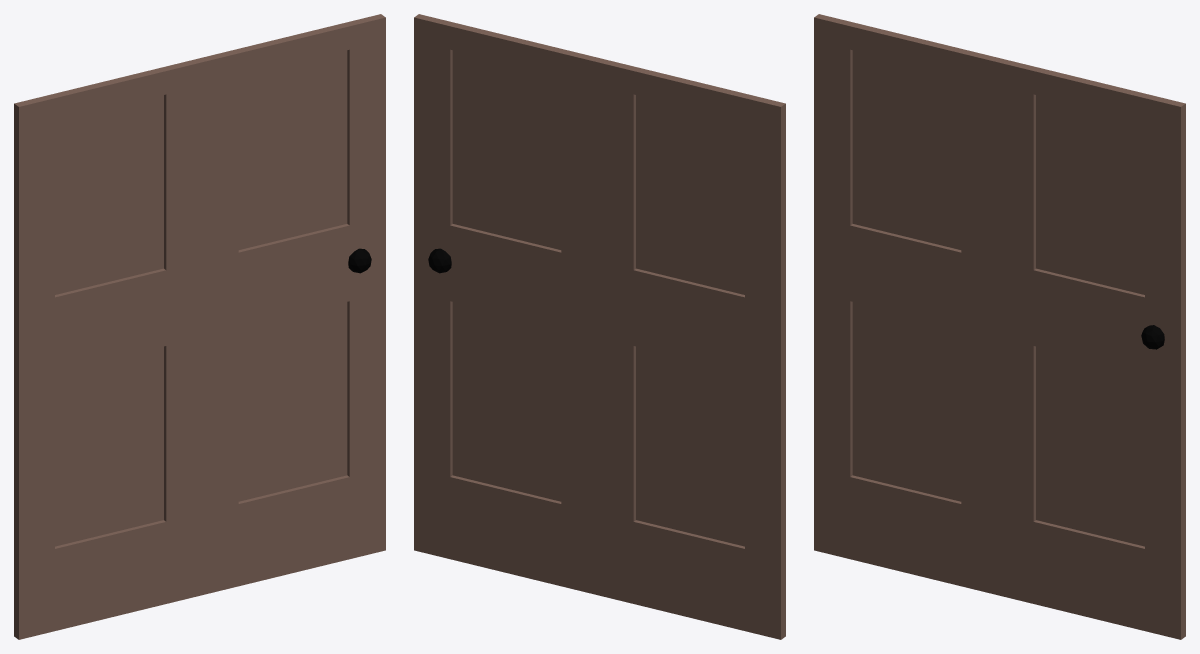
Rendered from Door.glb.
3 renders of one model, left to right at view 1: azimuth 30°, elevation 25°; view 2: azimuth 150°, elevation 25°; view 3: azimuth 330°, elevation 25°, orthographic.
Parts seen in each view (by area): view 1: Door_col; view 2: Door_col; view 3: Door_col.
Part boxes in pixels (x1=…): Door_col: x1=14, y1=14, x2=385, y2=639; Door_col: x1=414, y1=14, x2=785, y2=639; Door_col: x1=814, y1=14, x2=1185, y2=639.
Size of the model in its own units: 2.9 by 4.02 by 0.246.
Materials: 1 (1 with a texture image).
